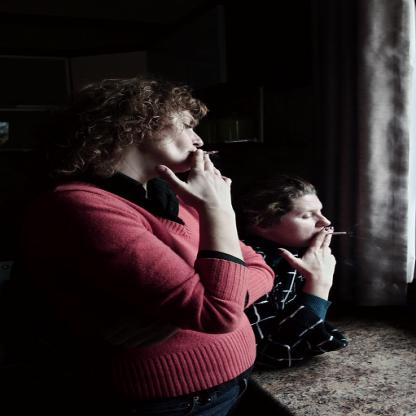smoking: (195, 151, 218, 154), (322, 232, 346, 234)
